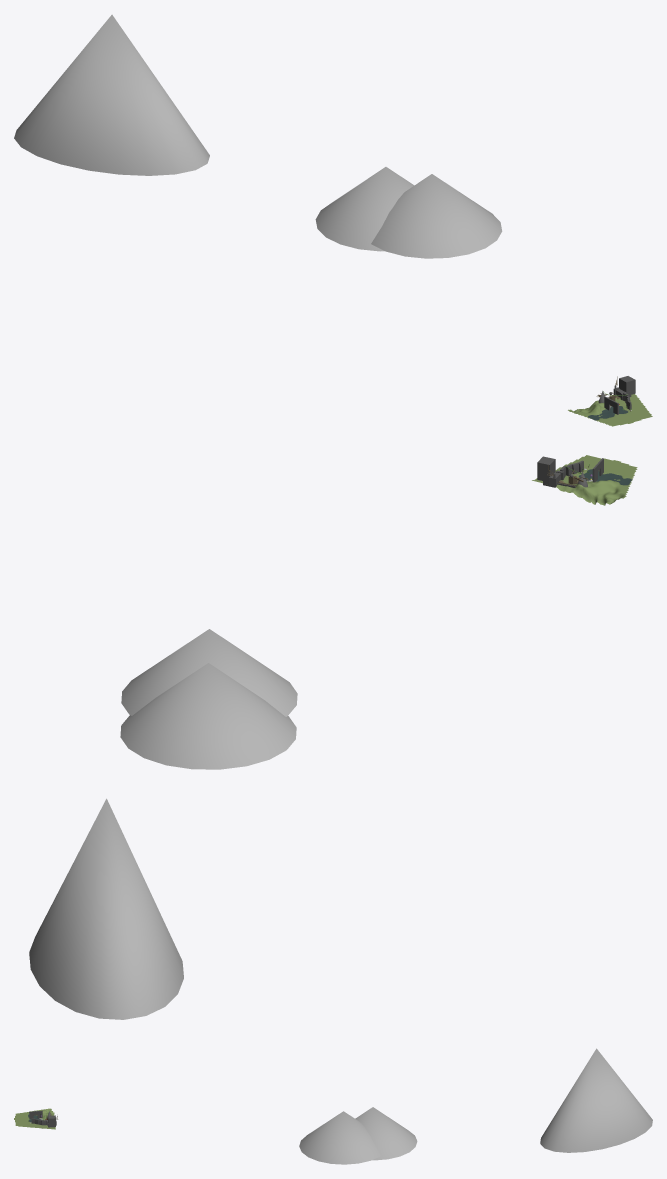
The model's file is forest scene whitebox.fbx.
3 views of the same model, one above another, from view 1: azimuth 30°, elevation 25°; view 2: azimuth 150°, elevation 25°; view 3: azimuth 270°, elevation 25° (orthographic). The views are drawn at different scales.
Parts seen in each view (by area): view 1: Mount1, Mount2, Mount3, Ground; view 2: Mount1, Mount3, Mount2, Ground; view 3: Mount1, Mount2, Mount3, Ground.
Part boxes in pixels (x1,y1,x2,y2): Mount1: (14, 14, 209, 175); Mount2: (371, 174, 502, 258); Mount3: (315, 167, 414, 251); Ground: (568, 394, 652, 426); Mount1: (29, 798, 183, 1019); Mount3: (120, 663, 296, 769); Mount2: (121, 629, 297, 716); Ground: (532, 455, 637, 505); Mount1: (540, 1048, 652, 1152); Mount2: (299, 1111, 380, 1164); Mount3: (355, 1107, 417, 1160); Ground: (14, 1108, 55, 1129).
Size of the model in its own units: 115 by 58.64 by 406.
